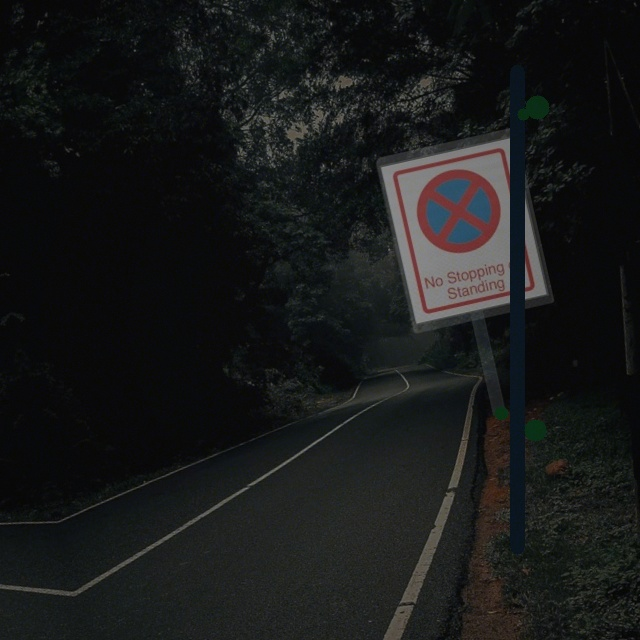No_Stopping_or_Standing: (399, 152, 521, 274)
